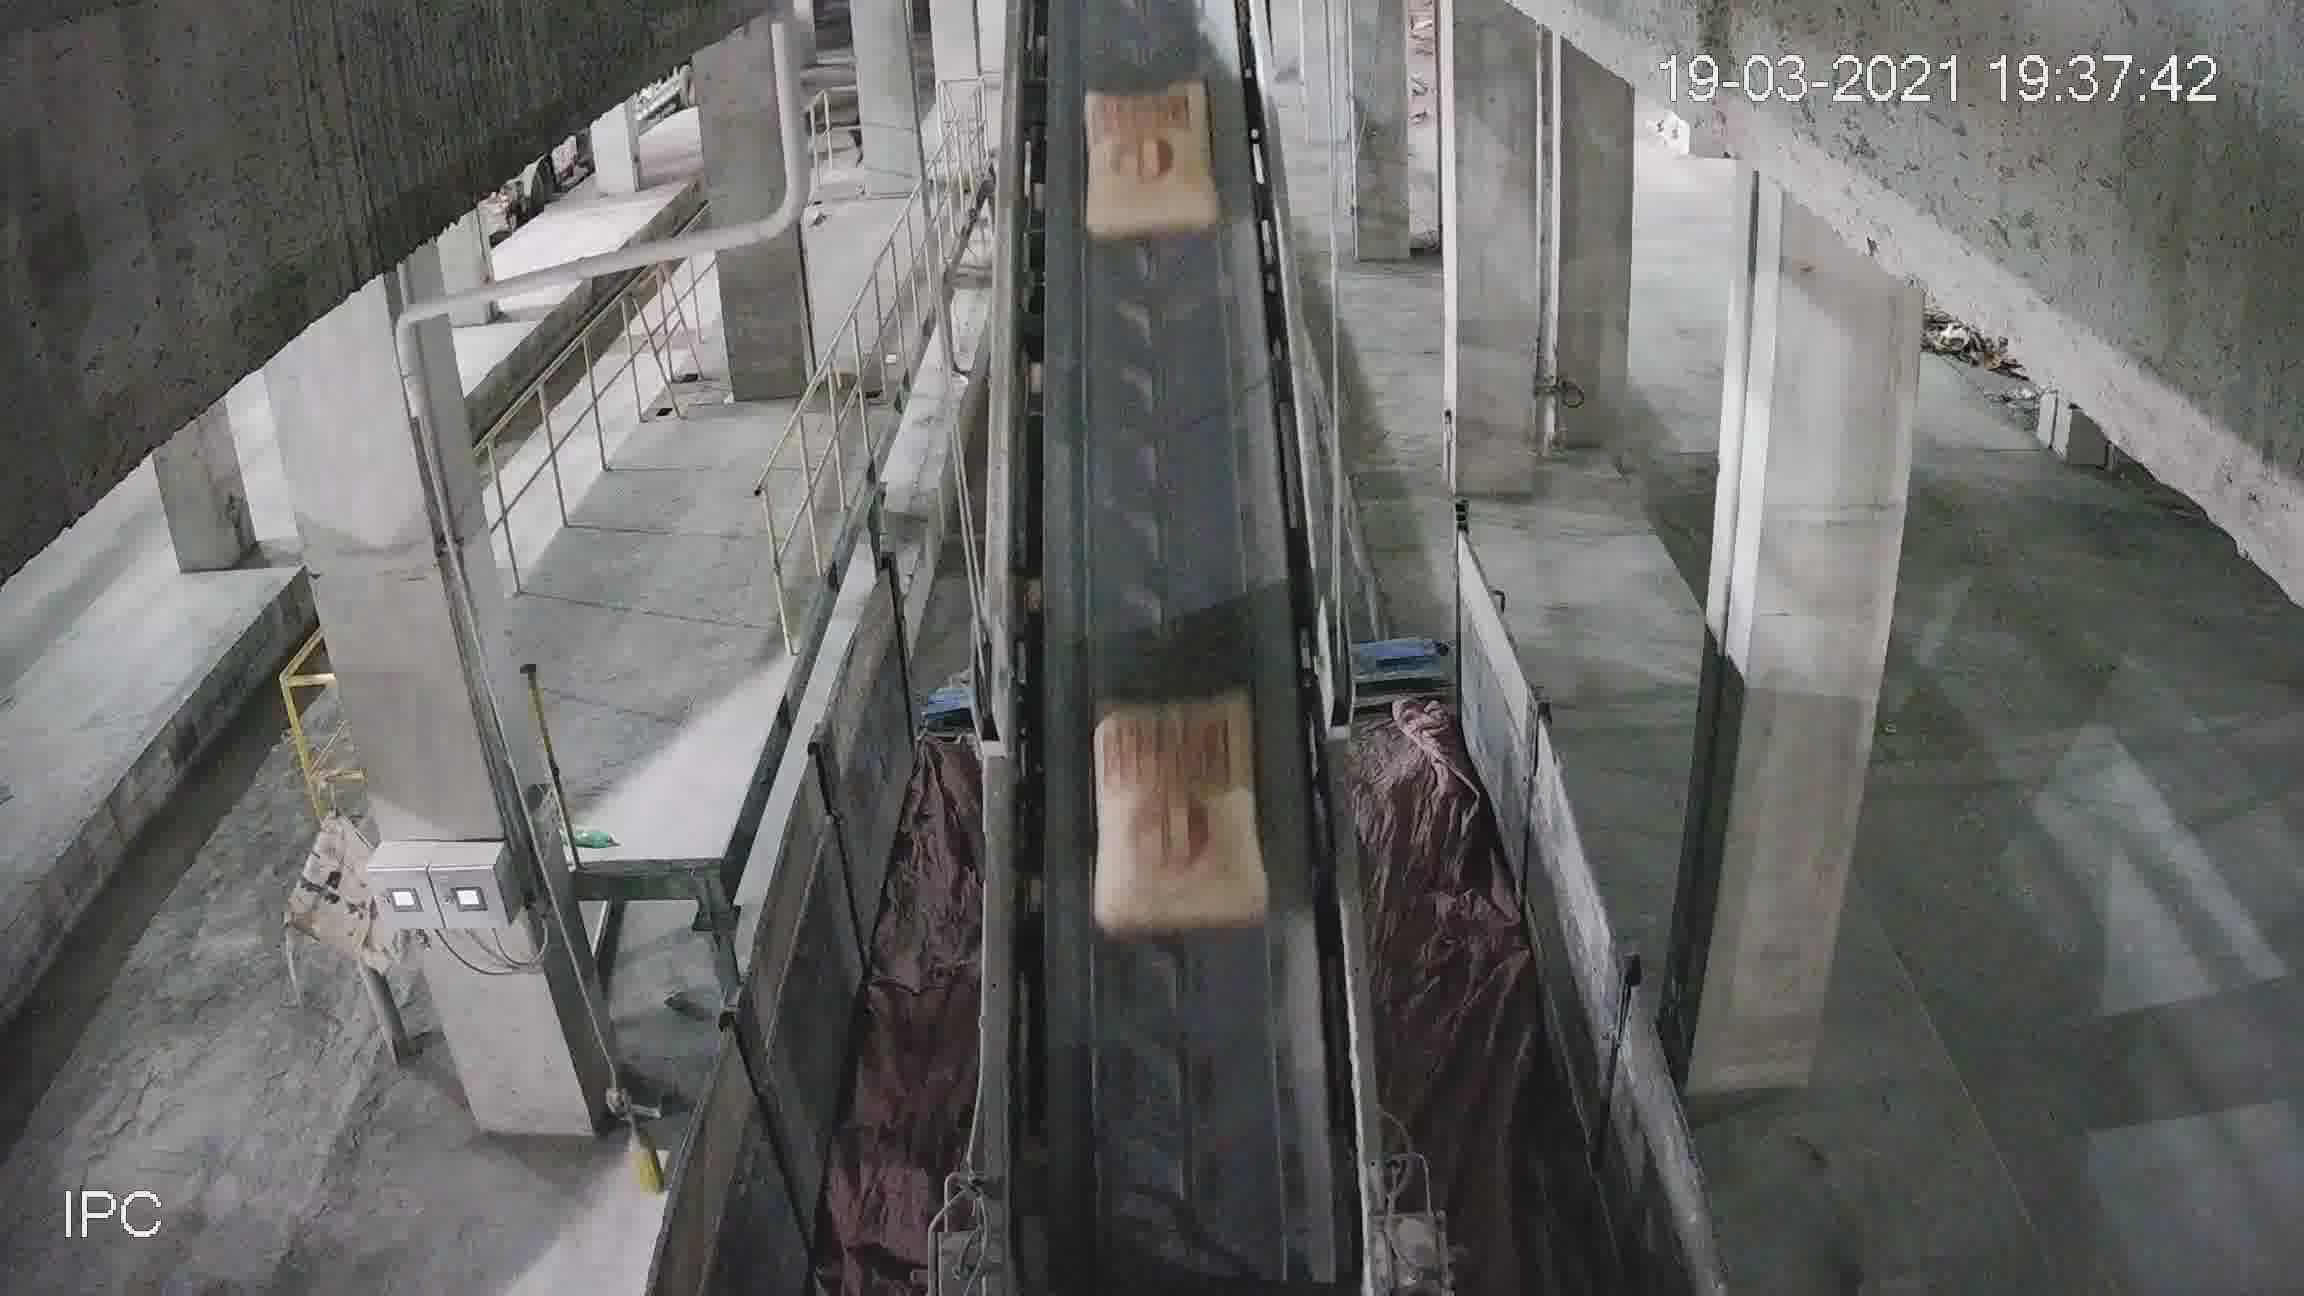bag: (1095, 706, 1263, 938), (1087, 78, 1215, 233)
belt: (991, 79, 1358, 1122)
